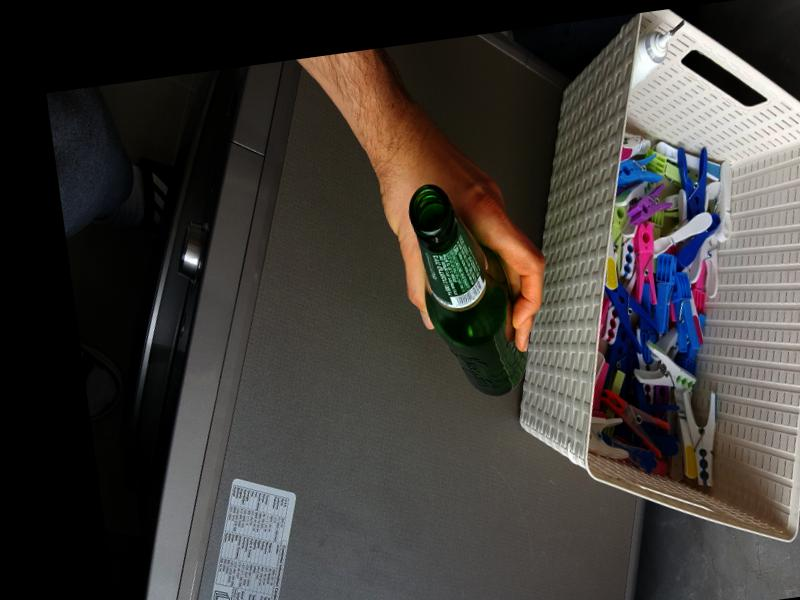Beer: (405, 174, 535, 402)
